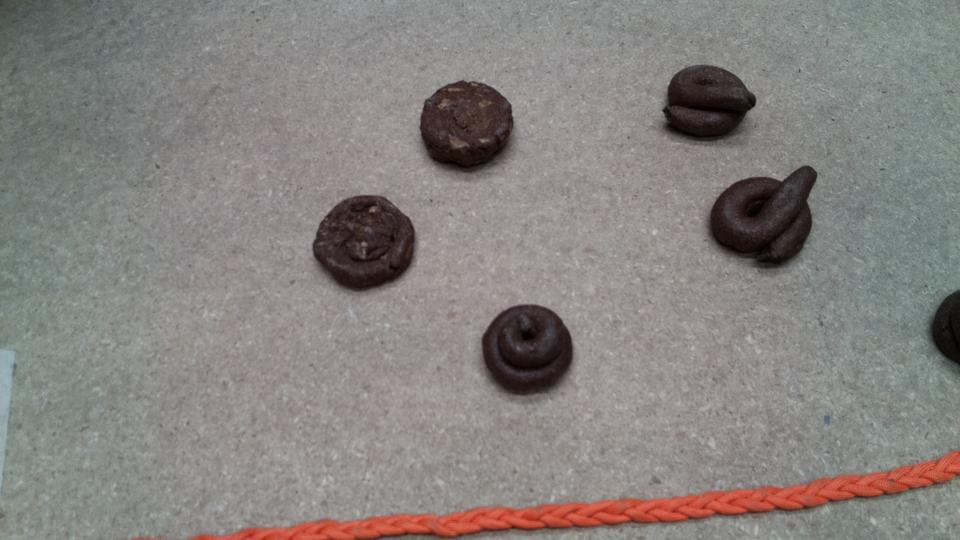poop: (703, 166, 838, 271), (308, 189, 418, 292), (478, 298, 582, 398), (417, 77, 520, 172), (658, 58, 760, 145)
rope: (527, 484, 846, 531), (173, 507, 573, 540), (793, 452, 960, 513)
